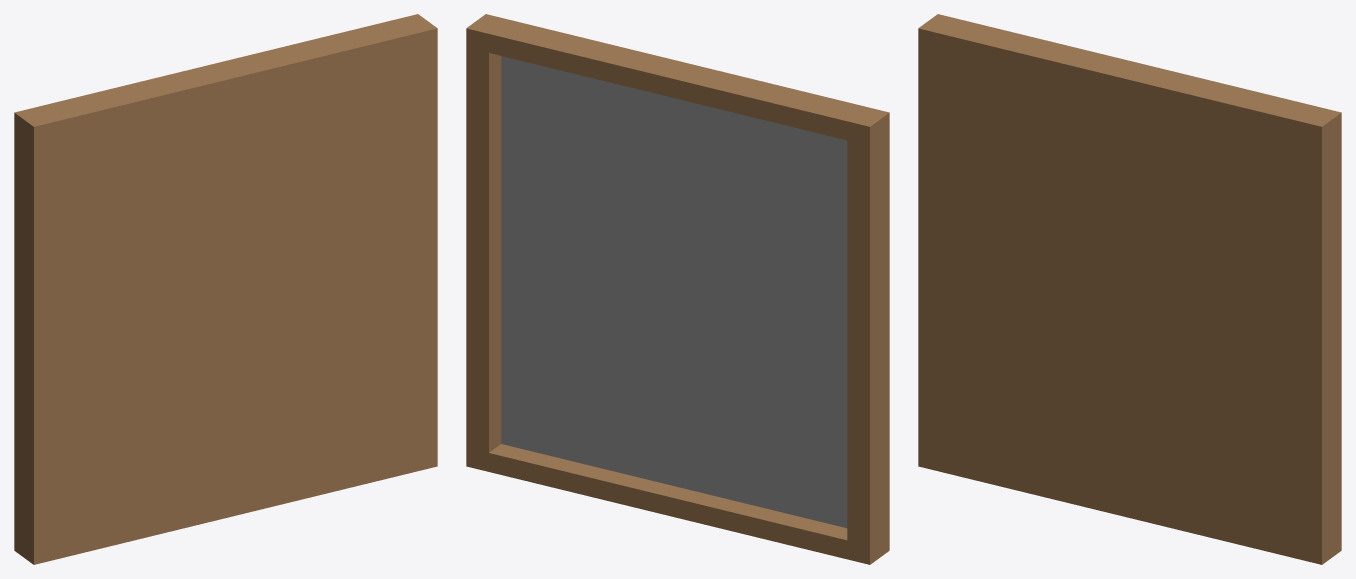
Rendered from mirror_3.FBX.
3 views of the same model, side by side, from view 1: azimuth 30°, elevation 25°; view 2: azimuth 150°, elevation 25°; view 3: azimuth 330°, elevation 25° (orthographic).
Visible parts, largest first — view 1: mirror_3; view 2: mirror_3; view 3: mirror_3.
Boxes of the visible parts, x1,y1,x2,y2 form: mirror_3: (14,14,437,564); mirror_3: (466,14,889,564); mirror_3: (918,14,1341,564).
Bounding box in the file's own units: 0.313 × 0.3245 × 0.0264.
